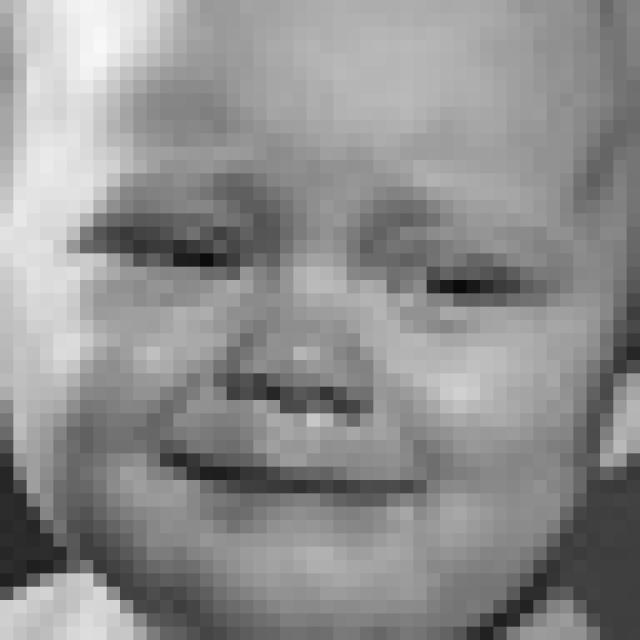sad: (55, 175, 574, 566)
